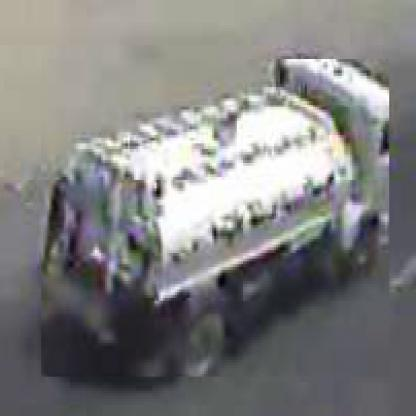truck: (40, 60, 390, 380)
